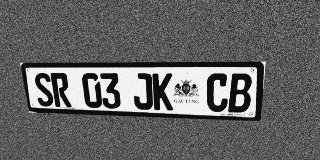0: (81, 73, 103, 108)
3: (100, 73, 121, 109)
B: (228, 73, 253, 113)
C: (206, 73, 229, 112)
J: (132, 73, 153, 110)
K: (152, 73, 173, 110)
R: (50, 73, 72, 107)
S: (33, 73, 55, 107)
